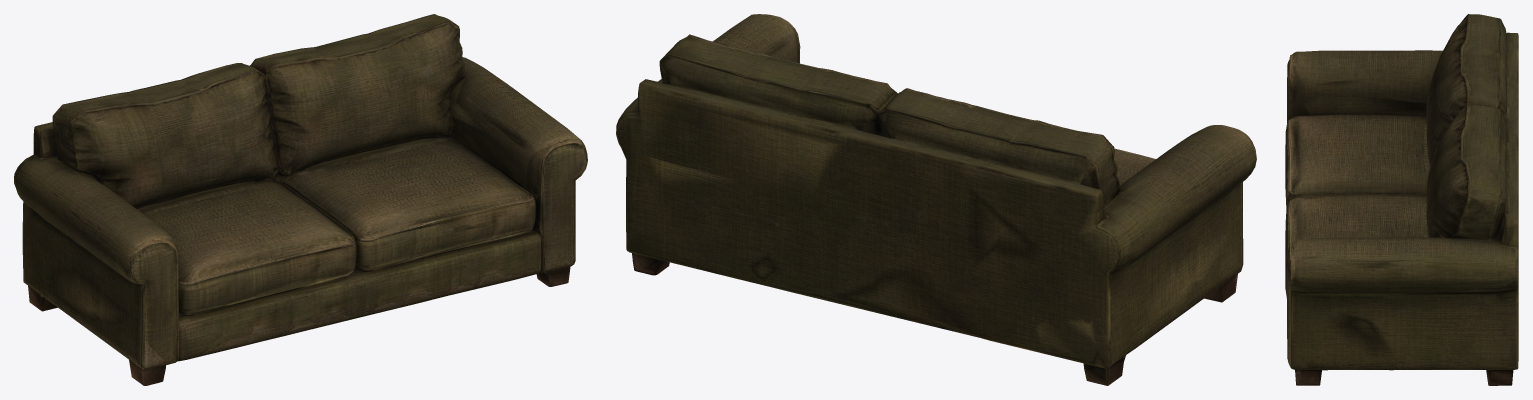
The model's file is Sofa.glb.
3 renders of one model, left to right at view 1: azimuth 30°, elevation 25°; view 2: azimuth 150°, elevation 25°; view 3: azimuth 270°, elevation 25°, orthographic. The views are drawn at different scales.
Visible parts, largest first — view 1: node_0; view 2: node_0; view 3: node_0.
Part boxes in pixels (<box>): node_0: <box>14,14,587,385</box>; node_0: <box>616,14,1256,385</box>; node_0: <box>1285,14,1518,385</box>.
Bounding box in the file's own units: 1.09 × 0.4551 × 0.5069.
Materials: 1 (1 with a texture image).
